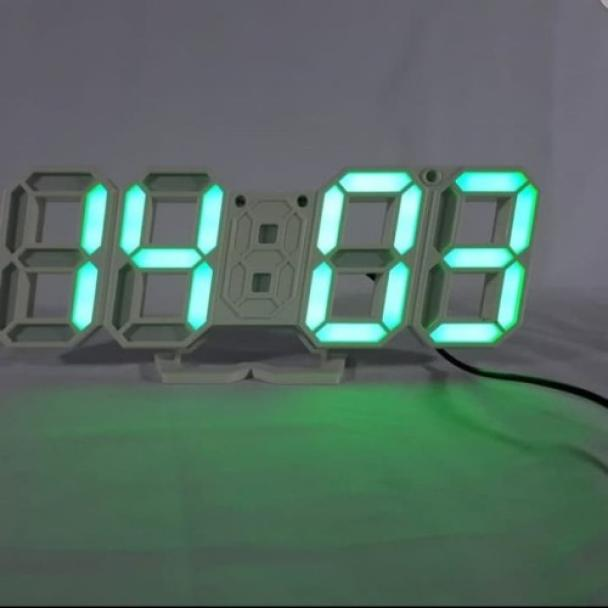Jam: (5, 167, 541, 359)
